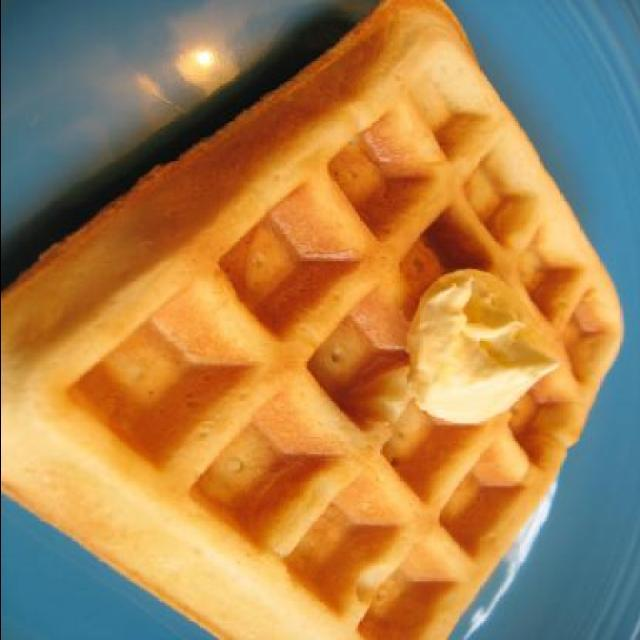Waffle: (1, 0, 627, 640), (1, 0, 625, 640)
